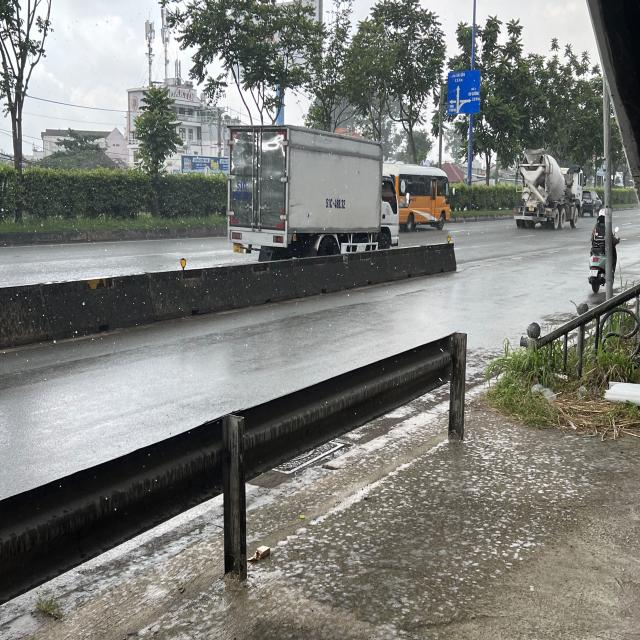car: (581, 191, 604, 215)
coach: (383, 164, 452, 232)
truck: (227, 124, 400, 254), (510, 146, 585, 231)
